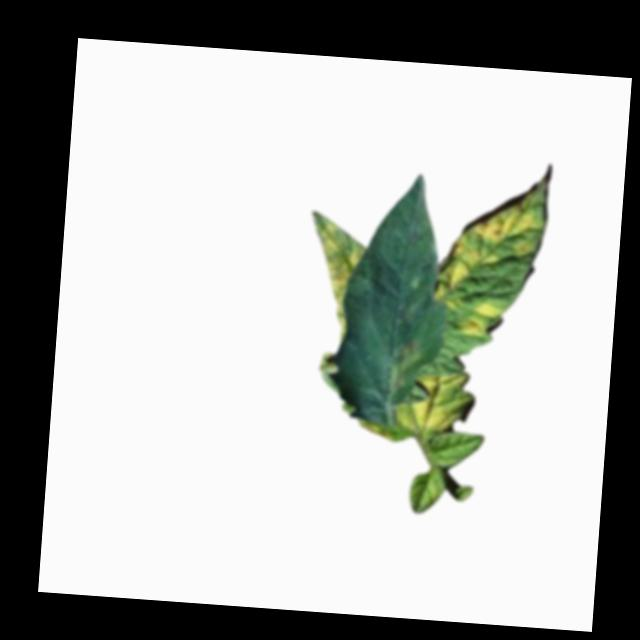Leaf_Mold: (434, 183, 545, 308), (300, 210, 368, 316), (395, 371, 473, 435), (385, 334, 421, 397), (460, 295, 503, 341)
